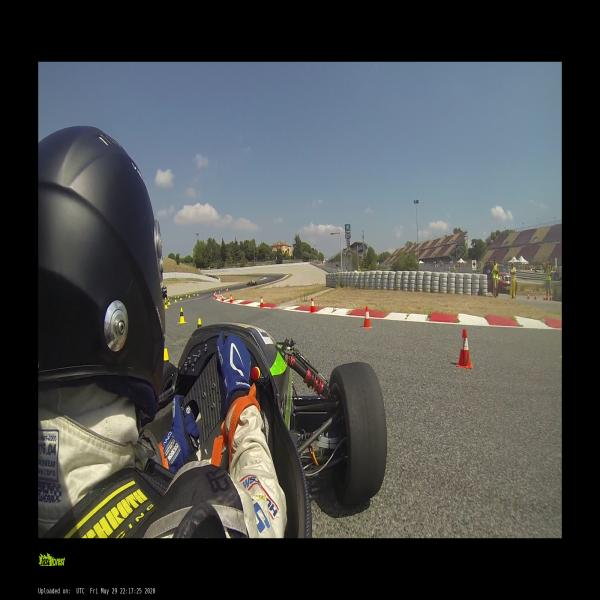orange_cone: (456, 329, 474, 369), (362, 306, 373, 329), (308, 298, 316, 314), (259, 296, 264, 308), (221, 295, 224, 302), (542, 294, 545, 301), (230, 294, 232, 304), (527, 293, 530, 299), (550, 294, 552, 301), (215, 293, 217, 300), (534, 294, 536, 300), (214, 292, 215, 298), (226, 289, 228, 292), (219, 290, 220, 294)
yellow_cone: (178, 307, 186, 324), (164, 348, 169, 363), (198, 318, 202, 327), (164, 301, 168, 308), (164, 298, 167, 304), (174, 296, 176, 302), (180, 295, 182, 301), (168, 298, 170, 304), (188, 293, 190, 298), (193, 291, 195, 296), (197, 291, 199, 296), (177, 294, 179, 298), (186, 293, 187, 297)
